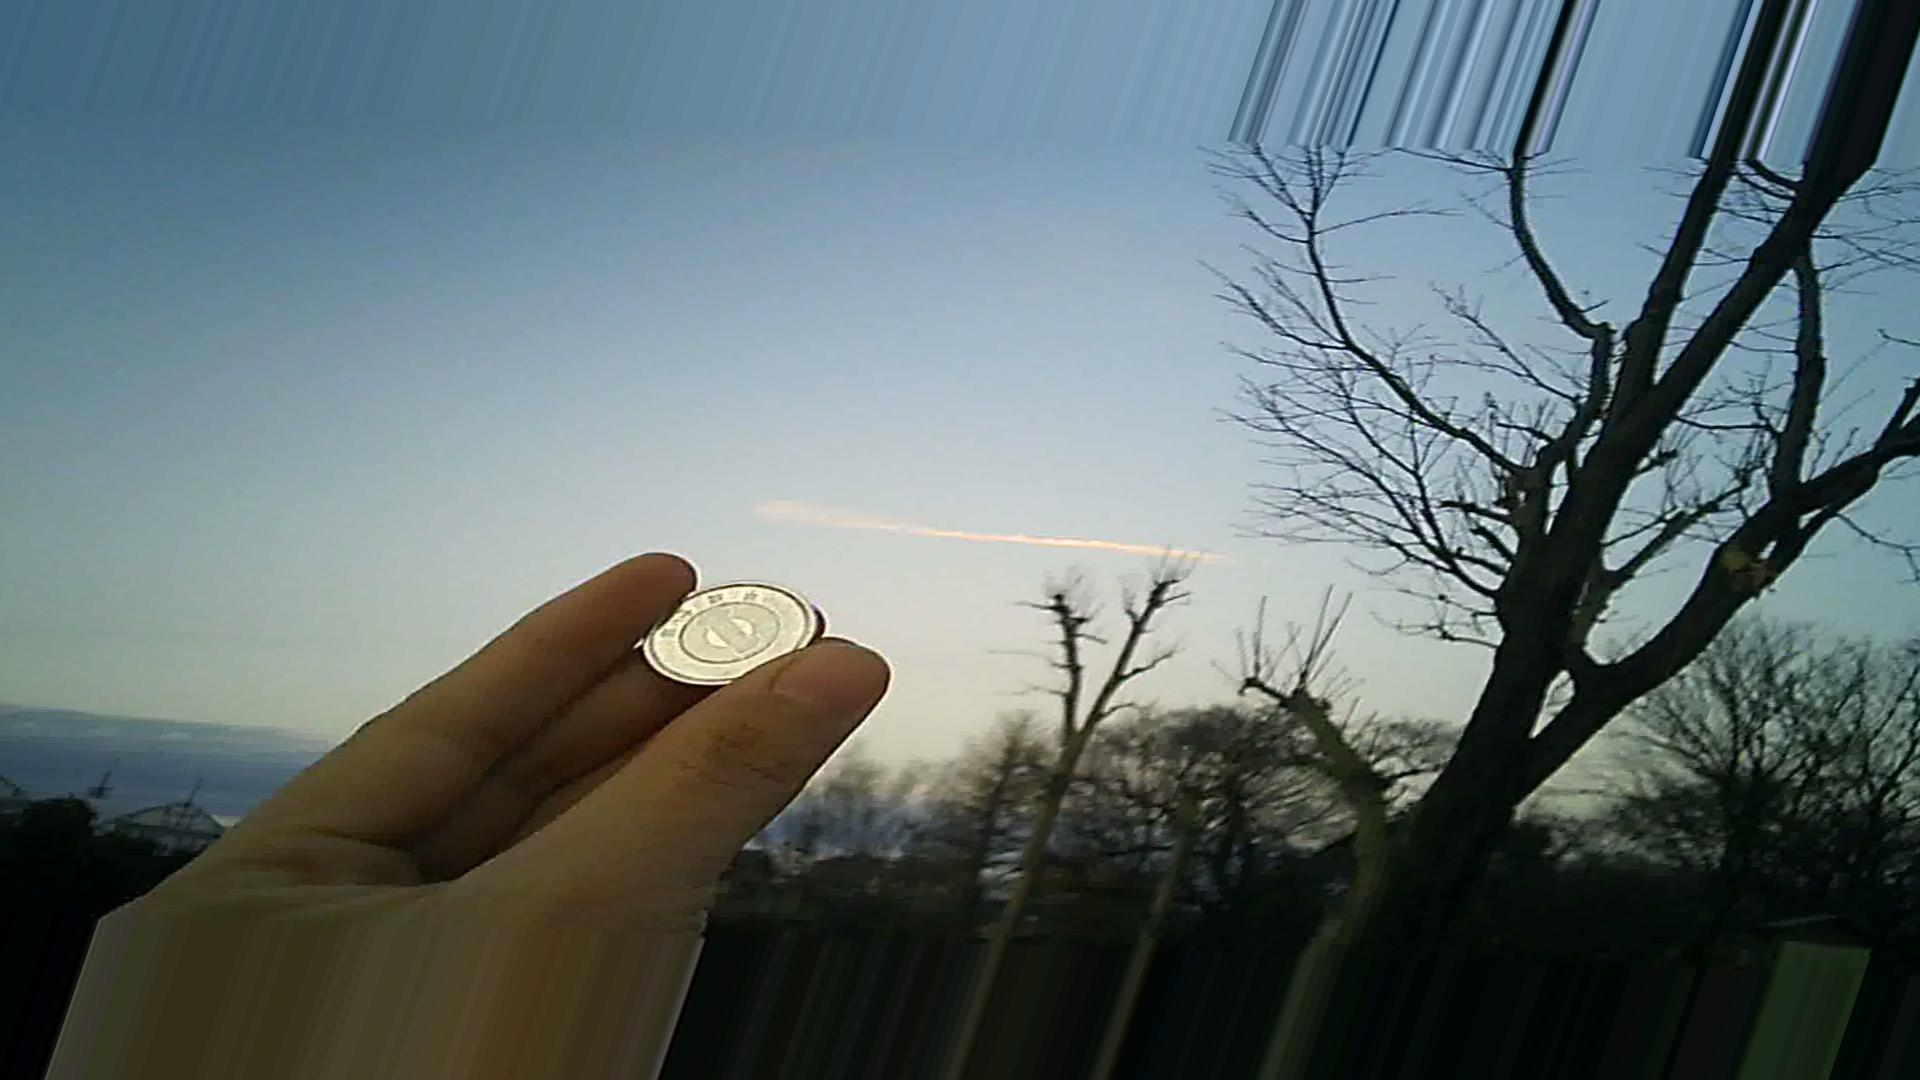1 Yen: (644, 571, 832, 699)
